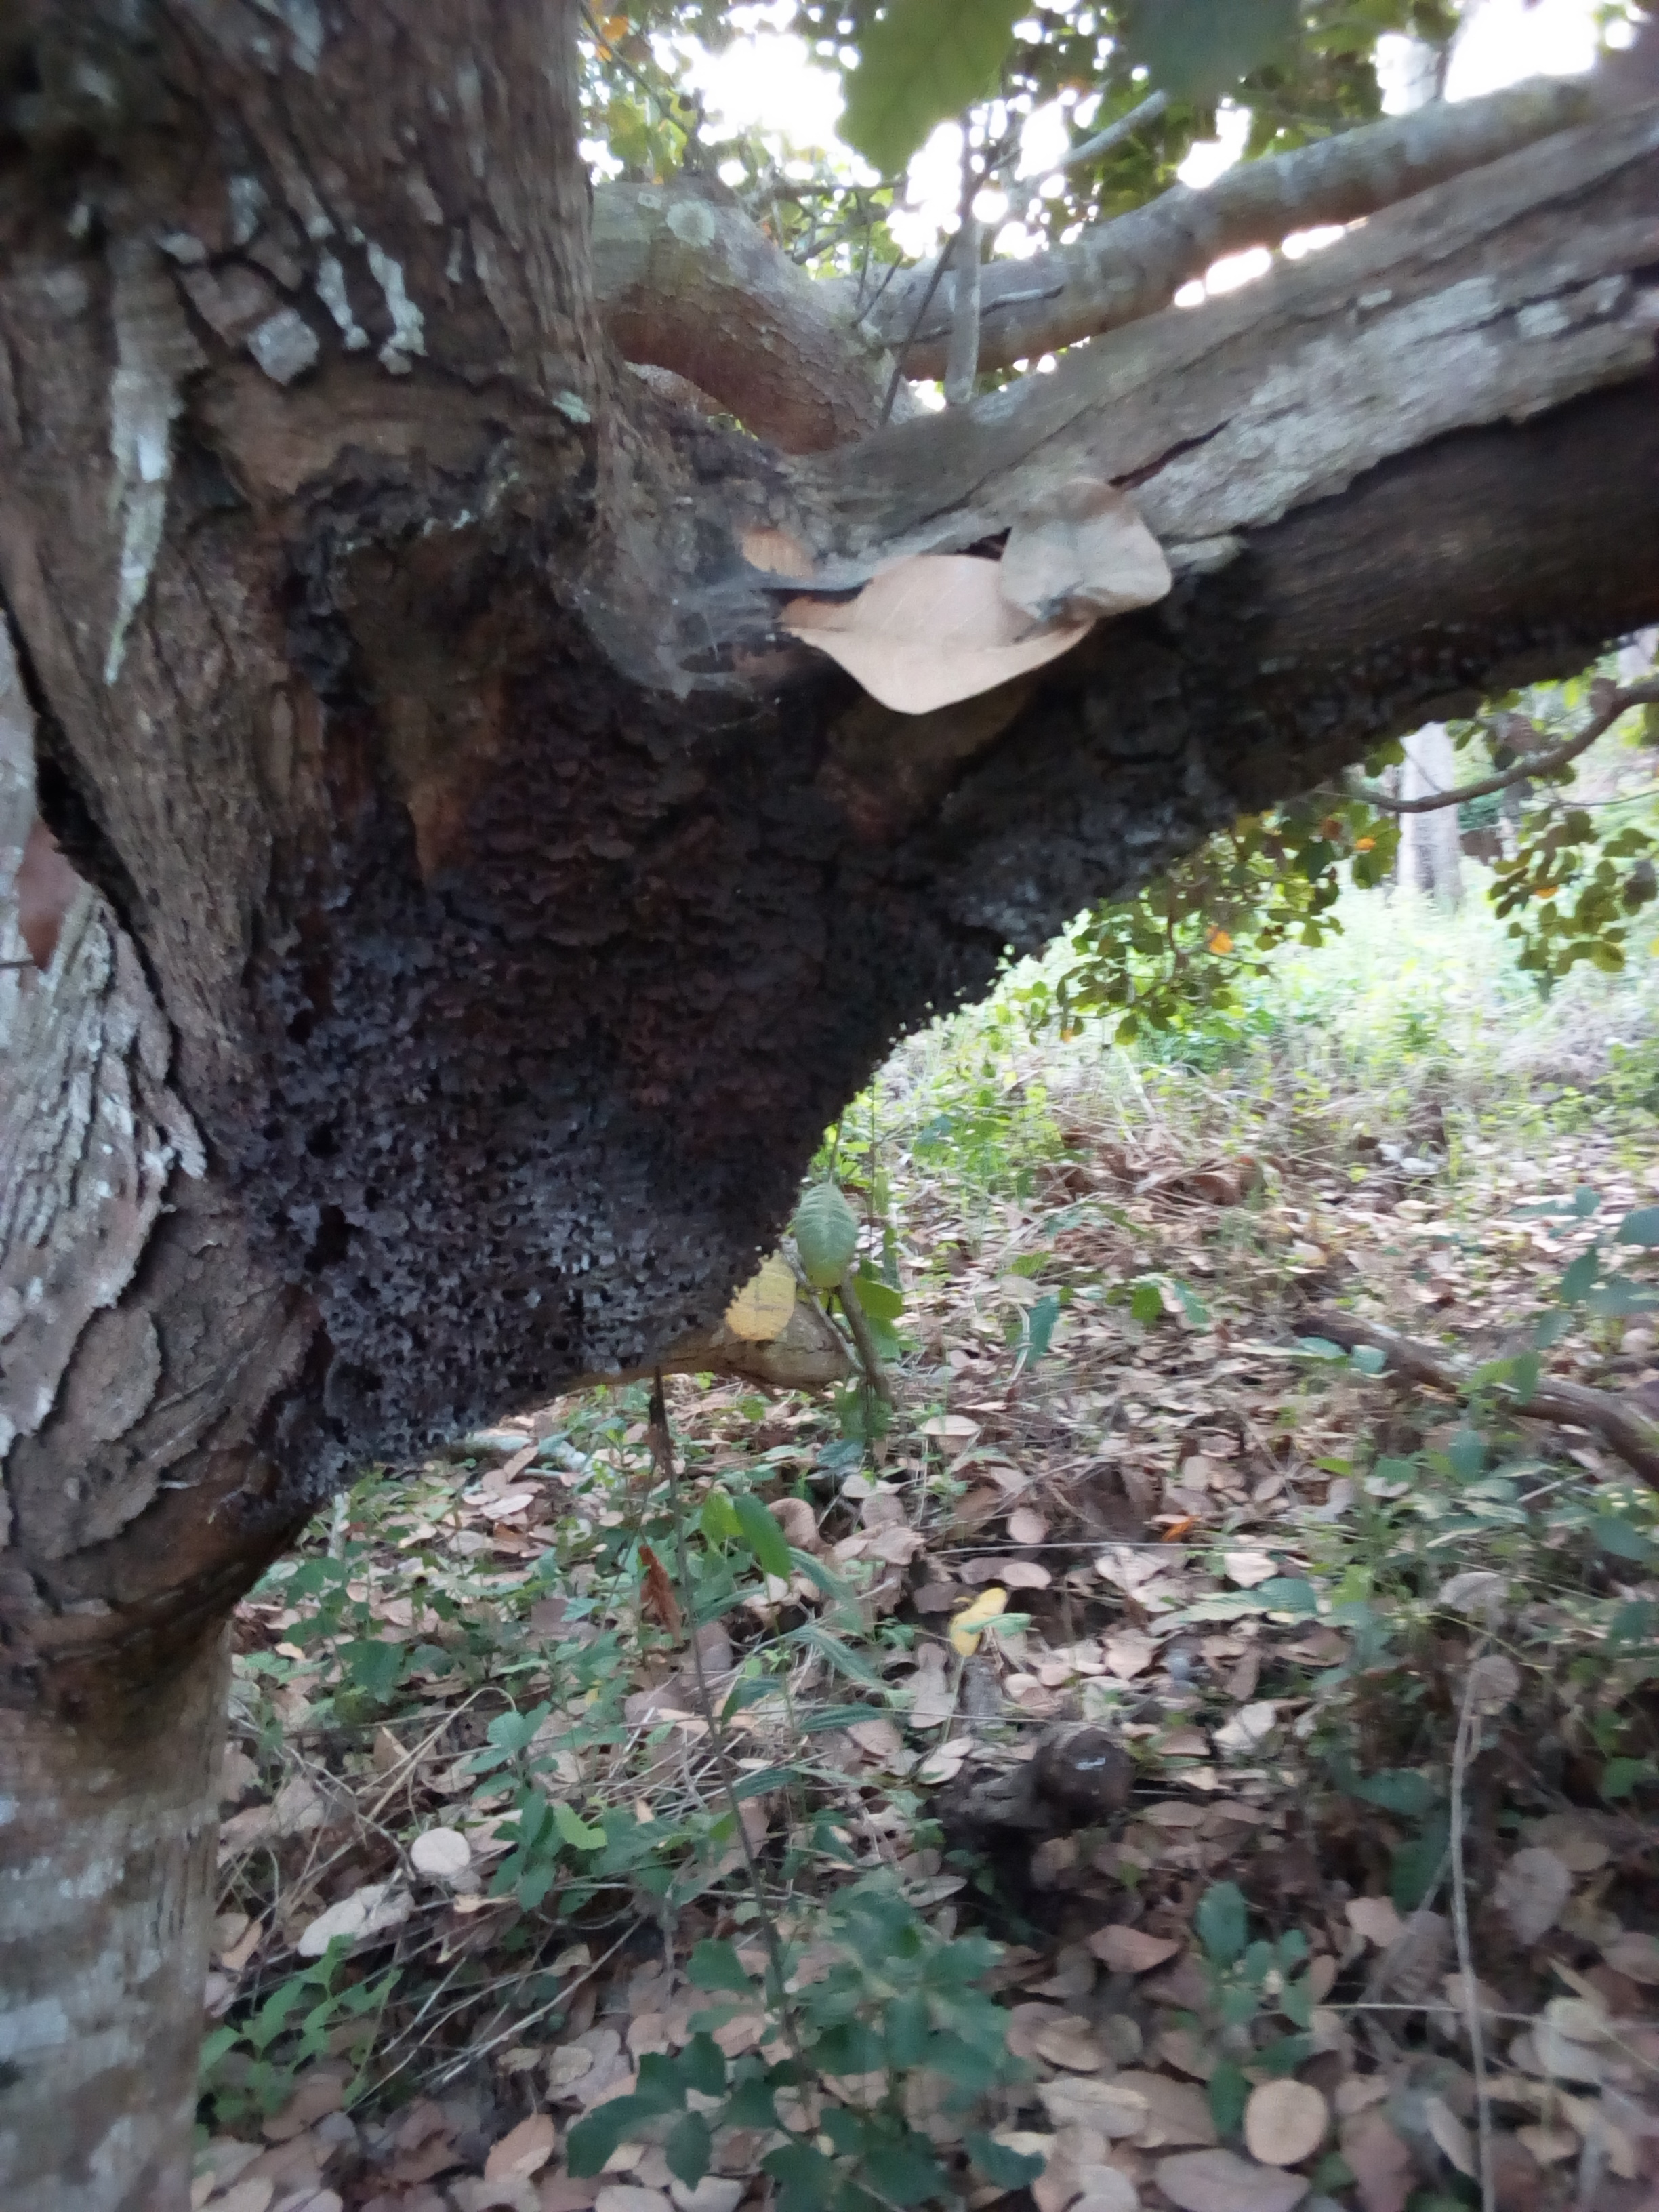Termites: (234, 812, 744, 1374), (826, 784, 1141, 1092)
